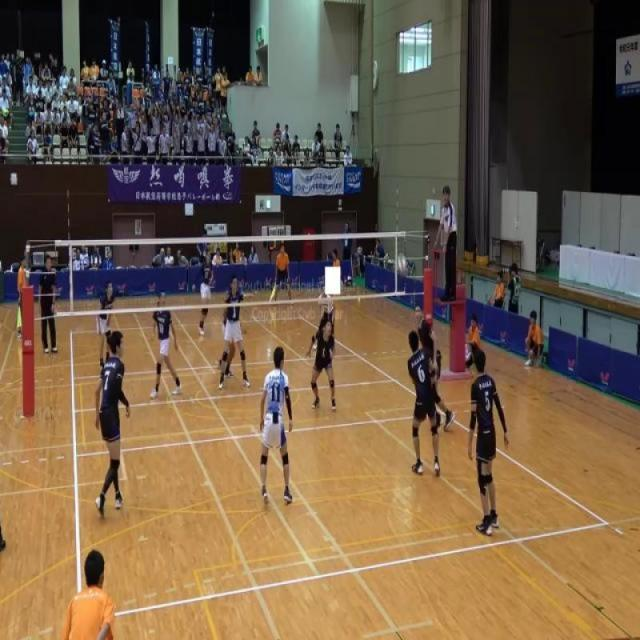volleyball: (397, 252, 407, 274), (279, 280, 282, 288)
